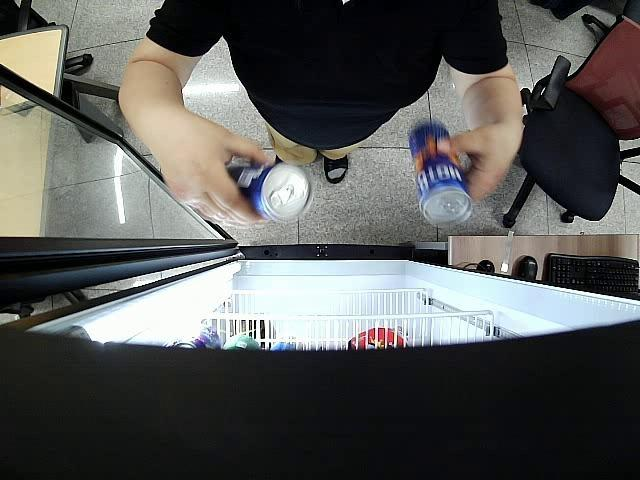16_hot6: (410, 121, 473, 228), (228, 162, 312, 224)
